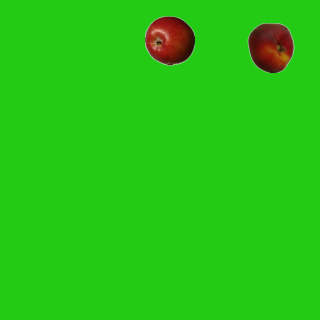Apple Braeburn: (144, 15, 194, 65)
Nectarine Flat: (245, 22, 295, 72)
